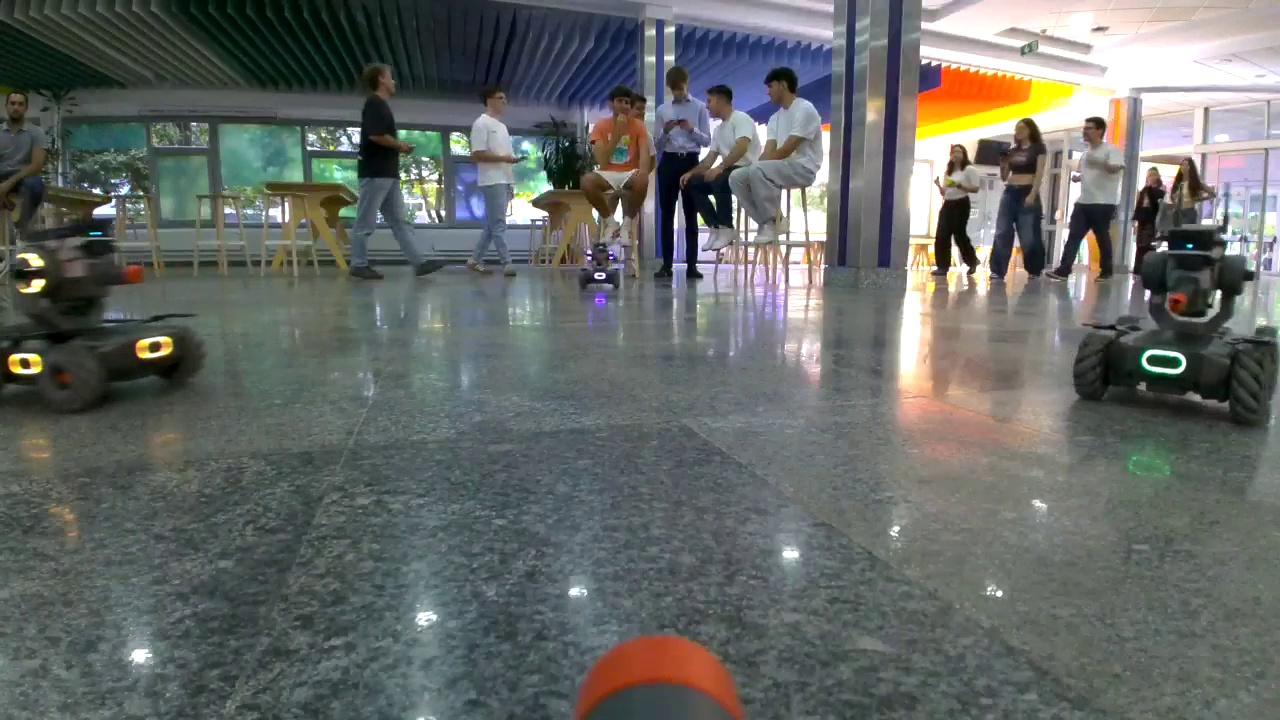robot: (1073, 228, 1280, 418), (1, 231, 200, 412)
